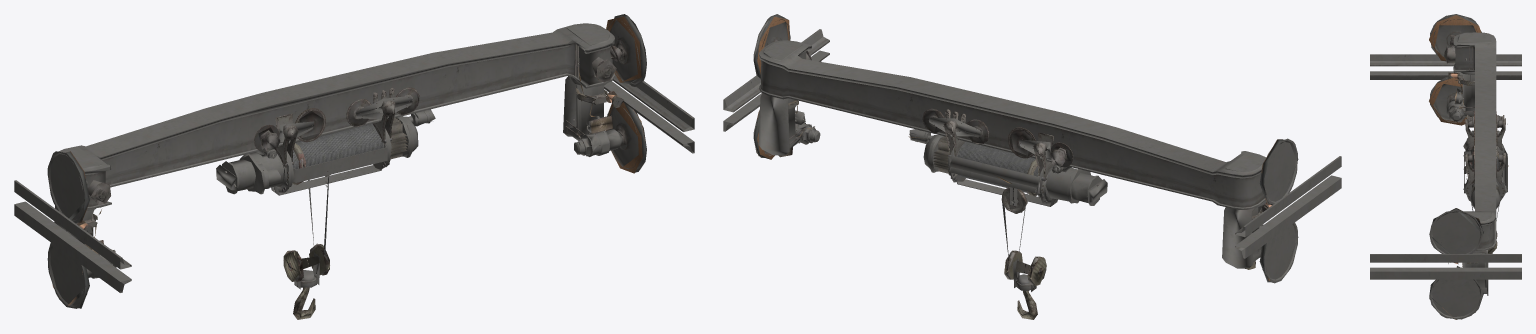
File: crane.glb
3 renders of one model, left to right at view 1: azimuth 30°, elevation 25°; view 2: azimuth 150°, elevation 25°; view 3: azimuth 270°, elevation 25°, orthographic. The views are drawn at different scales.
Parts seen in each view (by area): view 1: overhead_crane, overhead_crane_winch, overhead_crane_rails; view 2: overhead_crane, overhead_crane_winch, overhead_crane_rails; view 3: overhead_crane, overhead_crane_rails, overhead_crane_winch.
Boxes of the visible parts, x1,y1,x2,y2 form: overhead_crane: (47, 14, 646, 308); overhead_crane_winch: (216, 87, 435, 319); overhead_crane_rails: (14, 74, 694, 292); overhead_crane: (753, 14, 1298, 283); overhead_crane_winch: (908, 108, 1107, 319); overhead_crane_rails: (723, 29, 1341, 258); overhead_crane: (1429, 14, 1496, 319); overhead_crane_rails: (1370, 54, 1521, 279); overhead_crane_winch: (1463, 111, 1508, 253).
Size of the model in its own units: 12.49 by 5.09 by 4.
Materials: 2 (2 with a texture image).
